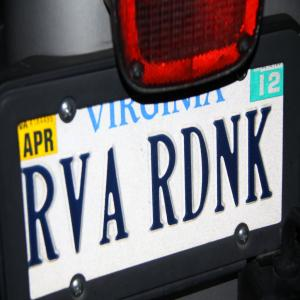Vehicle-registration-plate: (15, 62, 287, 300)
